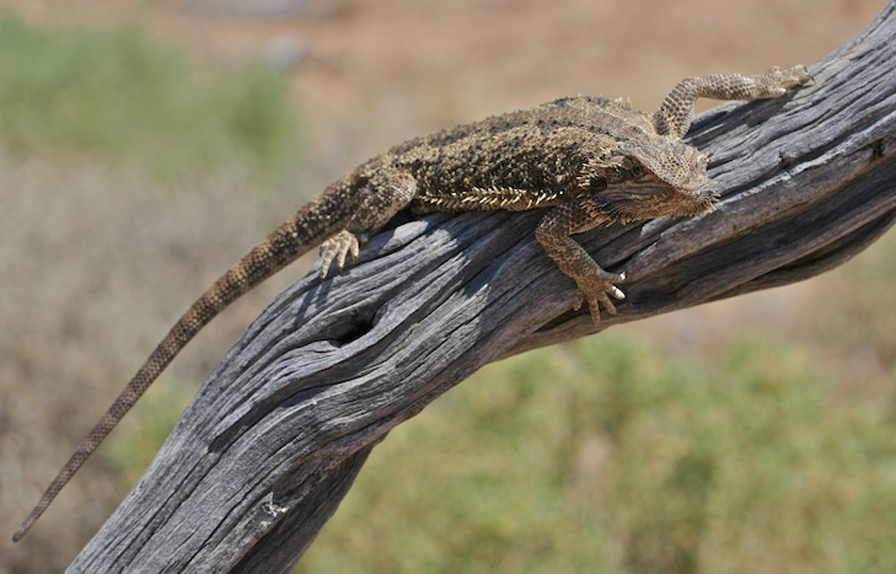bearded: (14, 62, 820, 548)
